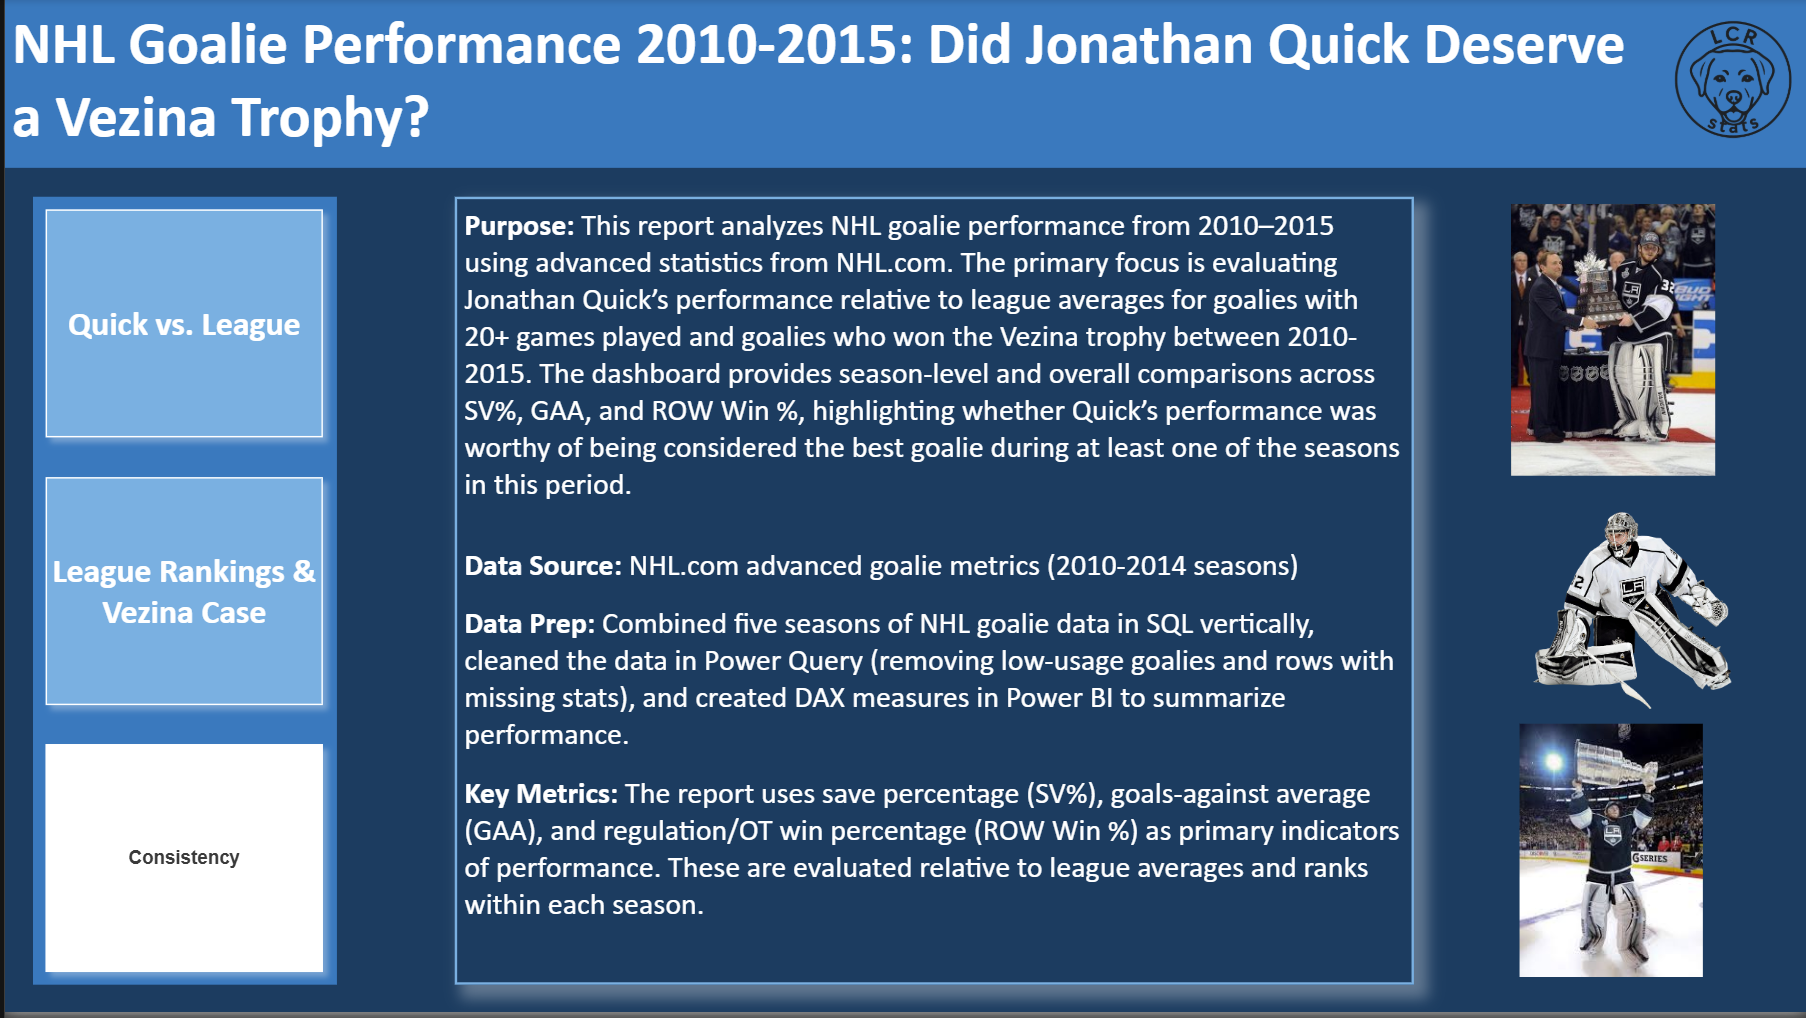

Layout of this report page (visuals, bound fields, positions):
{"tool":"powerbi","page":{"name":"Information","canvas":[1280,720],"ordinal":0},"visuals":[{"type":"textbox","box":[0,0,1280.7,120],"z":0},{"type":"textbox","box":[320,140,681.7,560],"z":1000},{"type":"image","box":[1175.4,0,105.3,116.1],"z":2000},{"type":"bookmarkNavigator","box":[20,140,216,560],"z":3000},{"type":"image","box":[1056.7,360,198.3,150],"z":4000},{"type":"image","box":[1056.7,140,171.7,203.3],"z":5000},{"type":"image","box":[1055,510,173.3,190],"z":6000}]}

Visuals, with their boxes in screenshot pixels (x1, y1, x2, y2), scaled from the page's 1280x720 canvas onto the 1806x1018 screenshot:
textbox: box=[0, 0, 1805, 170]
textbox: box=[452, 198, 1413, 990]
image: box=[1658, 0, 1805, 164]
bookmarkNavigator: box=[28, 198, 333, 990]
image: box=[1491, 509, 1771, 721]
image: box=[1491, 198, 1733, 485]
image: box=[1489, 721, 1733, 990]
